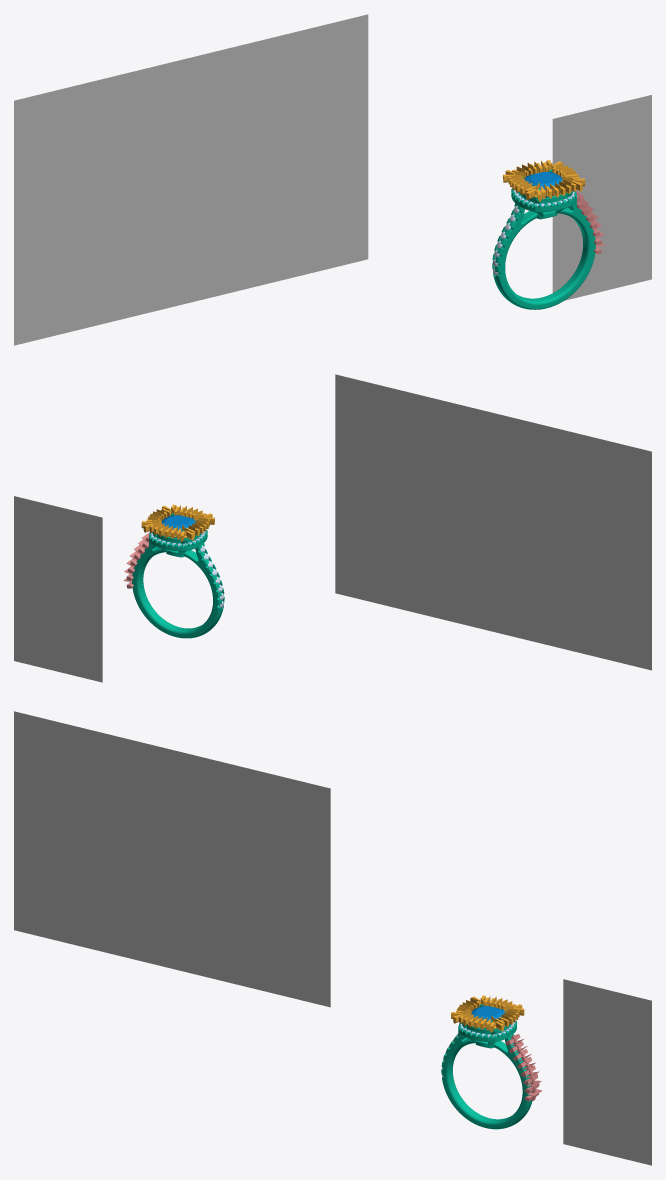
The picture shows the model from 3 angles, top to bottom: view 1: azimuth 30°, elevation 25°; view 2: azimuth 150°, elevation 25°; view 3: azimuth 330°, elevation 25°; orthographic projection. The views are drawn at different scales.
Visible parts, largest first — view 1: VR459 21.8.25 COUSION(front).3dm; view 2: VR459 21.8.25 COUSION(front).3dm; view 3: VR459 21.8.25 COUSION(front).3dm.
Part boxes in pixels (x1,y1,x2,y2): VR459 21.8.25 COUSION(front).3dm: (14,14,651,345); VR459 21.8.25 COUSION(front).3dm: (14,374,651,682); VR459 21.8.25 COUSION(front).3dm: (14,711,651,1165).
Bounding box in the file's own units: 16.05 × 8.43 × 2.26.
